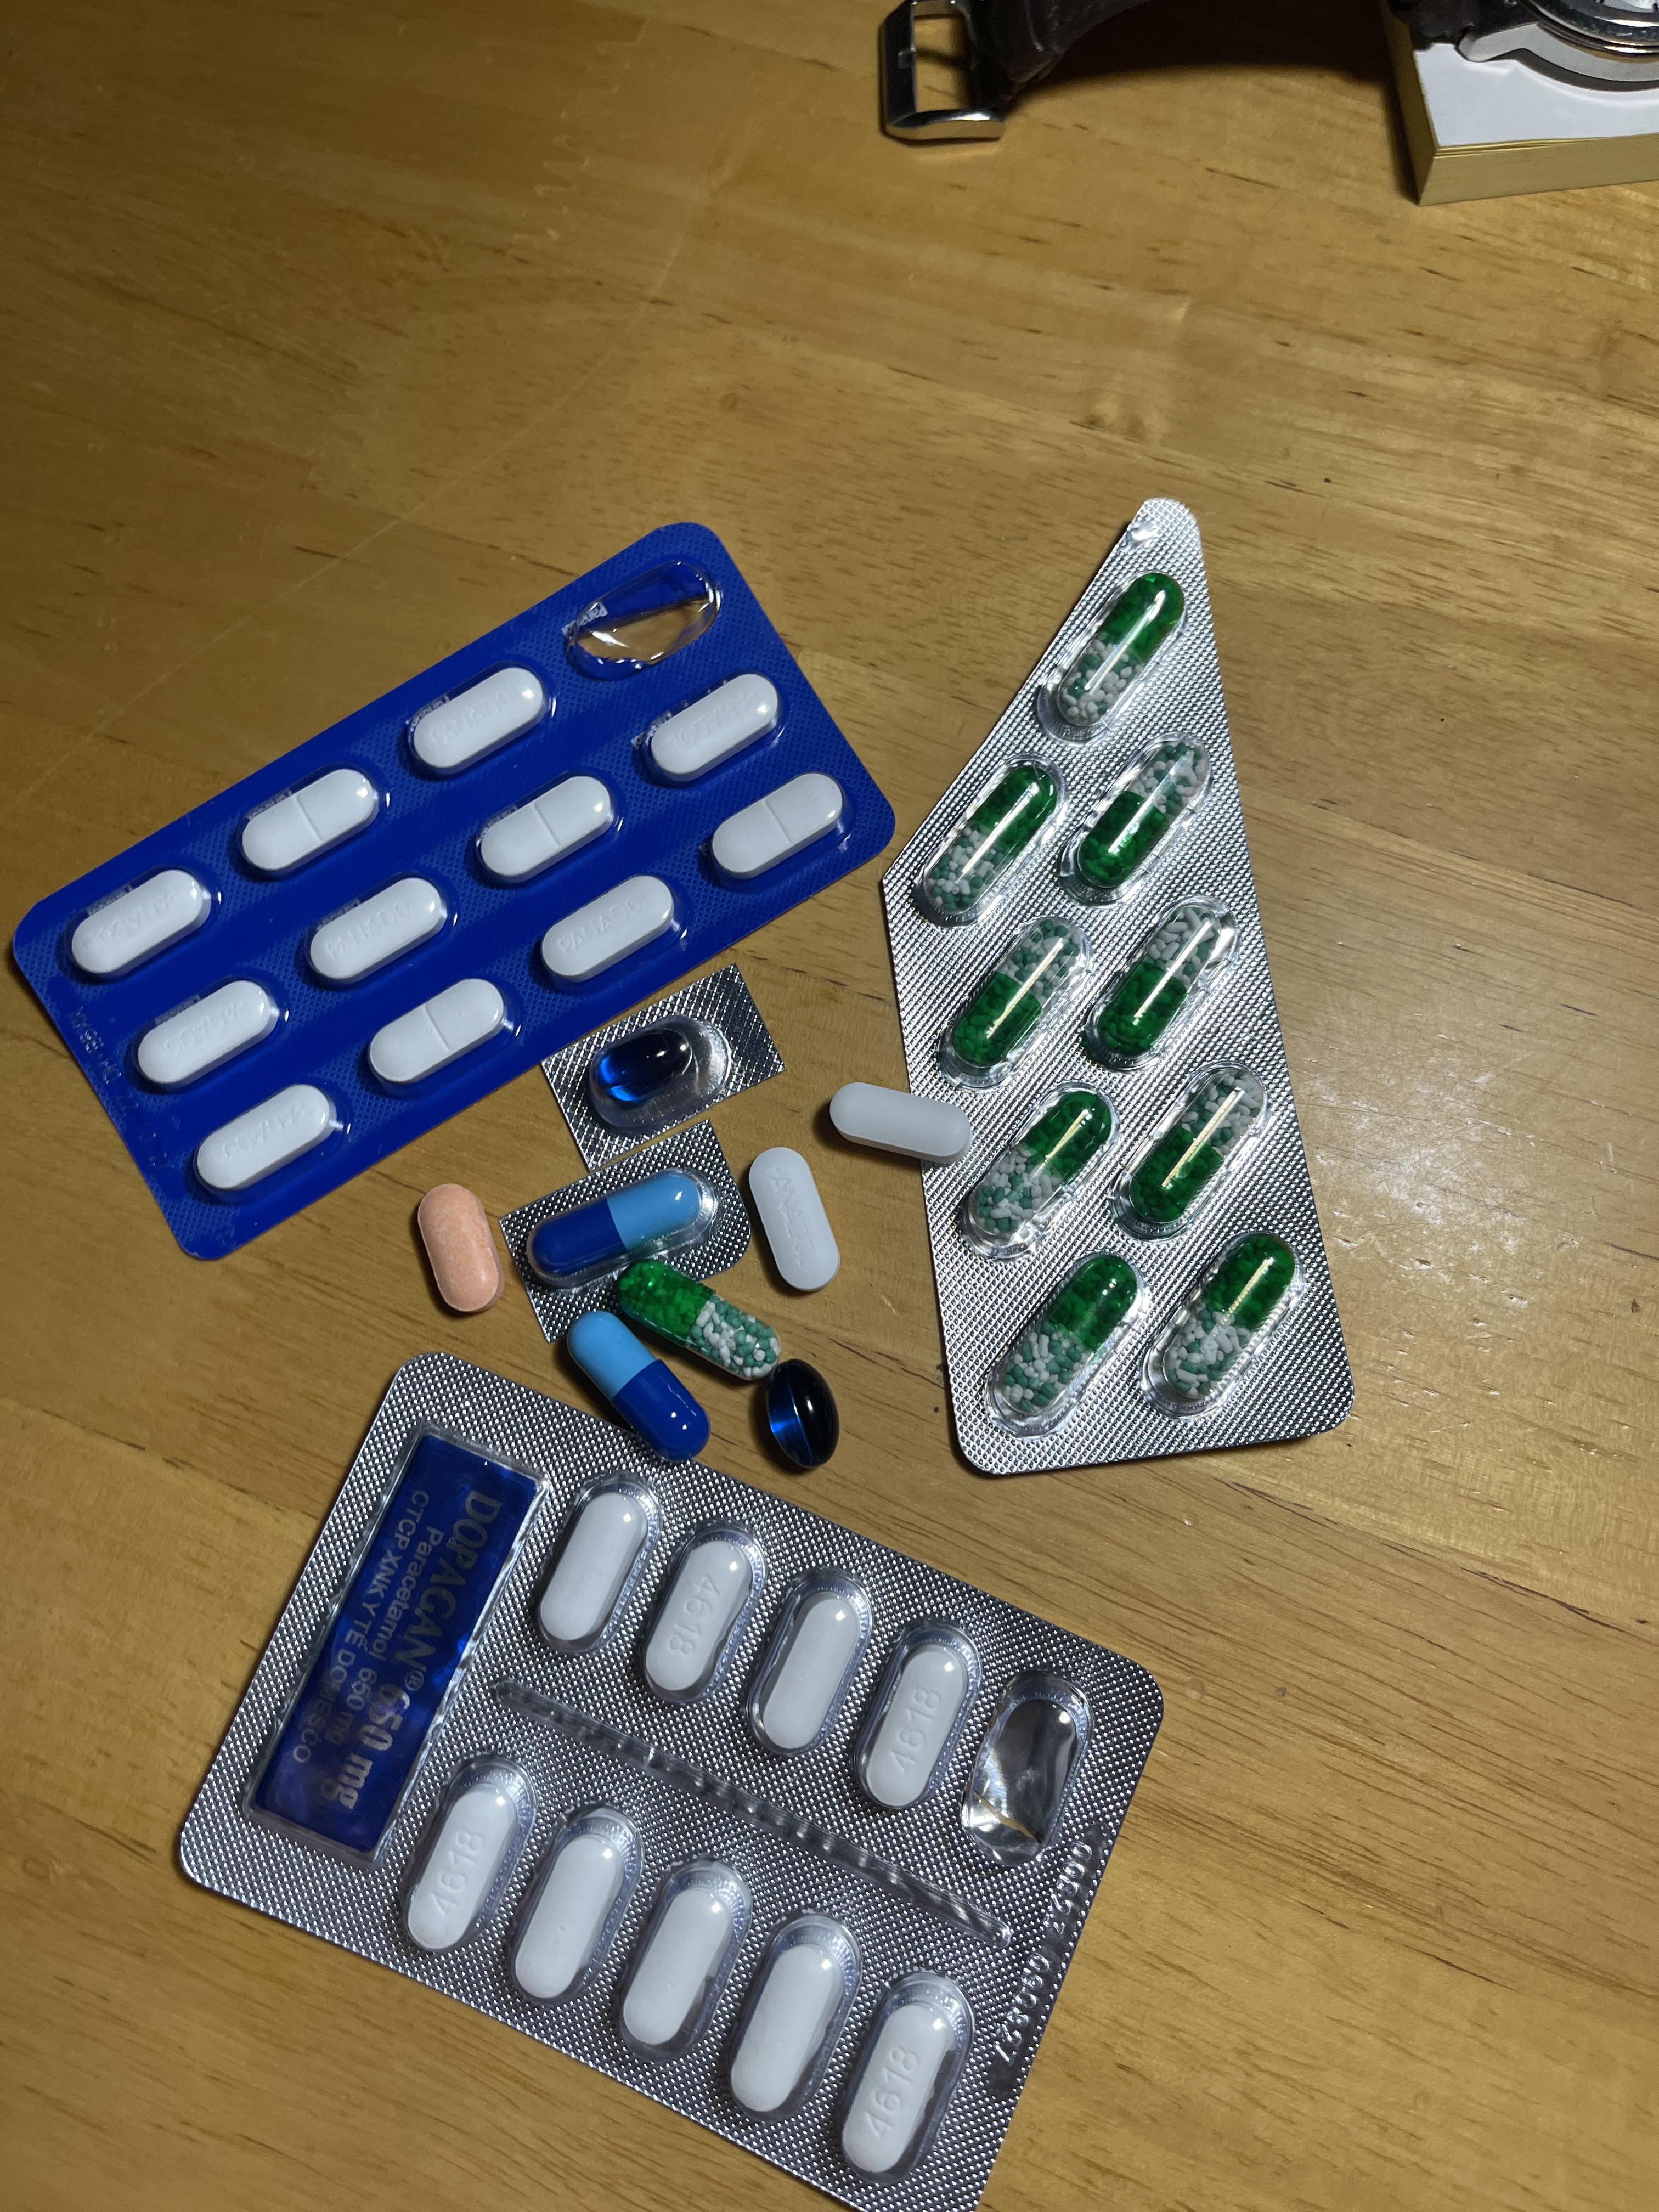Lincomyxin_500mg: (764, 1359, 840, 1469), (596, 1025, 701, 1101)
Loratadine_10mg: (416, 1182, 505, 1311)
Paracetamol_350mg: (135, 979, 281, 1092), (193, 1083, 341, 1194), (539, 873, 682, 986), (643, 672, 783, 787), (409, 664, 549, 777), (241, 766, 381, 878), (368, 977, 509, 1088), (306, 876, 448, 986), (475, 774, 613, 885), (707, 771, 845, 883), (69, 870, 208, 980), (746, 1144, 840, 1290)
Paracetamol_500mg: (716, 1908, 859, 2128), (616, 1856, 758, 2064), (833, 1967, 972, 2179), (507, 1801, 644, 2004), (644, 1530, 760, 1697), (409, 1785, 517, 1955), (752, 1589, 862, 1753), (863, 1650, 967, 1807), (539, 1494, 647, 1642), (830, 1083, 966, 1170)
Paracetamol_650mg: (1143, 1229, 1299, 1417), (1105, 1057, 1267, 1237), (989, 1251, 1142, 1436), (1078, 901, 1234, 1072), (962, 1084, 1114, 1251), (916, 753, 1063, 921), (938, 918, 1086, 1085), (1046, 568, 1188, 739), (1062, 736, 1209, 898), (612, 1258, 782, 1382)
pill: (524, 1170, 719, 1291), (566, 1311, 706, 1452)
